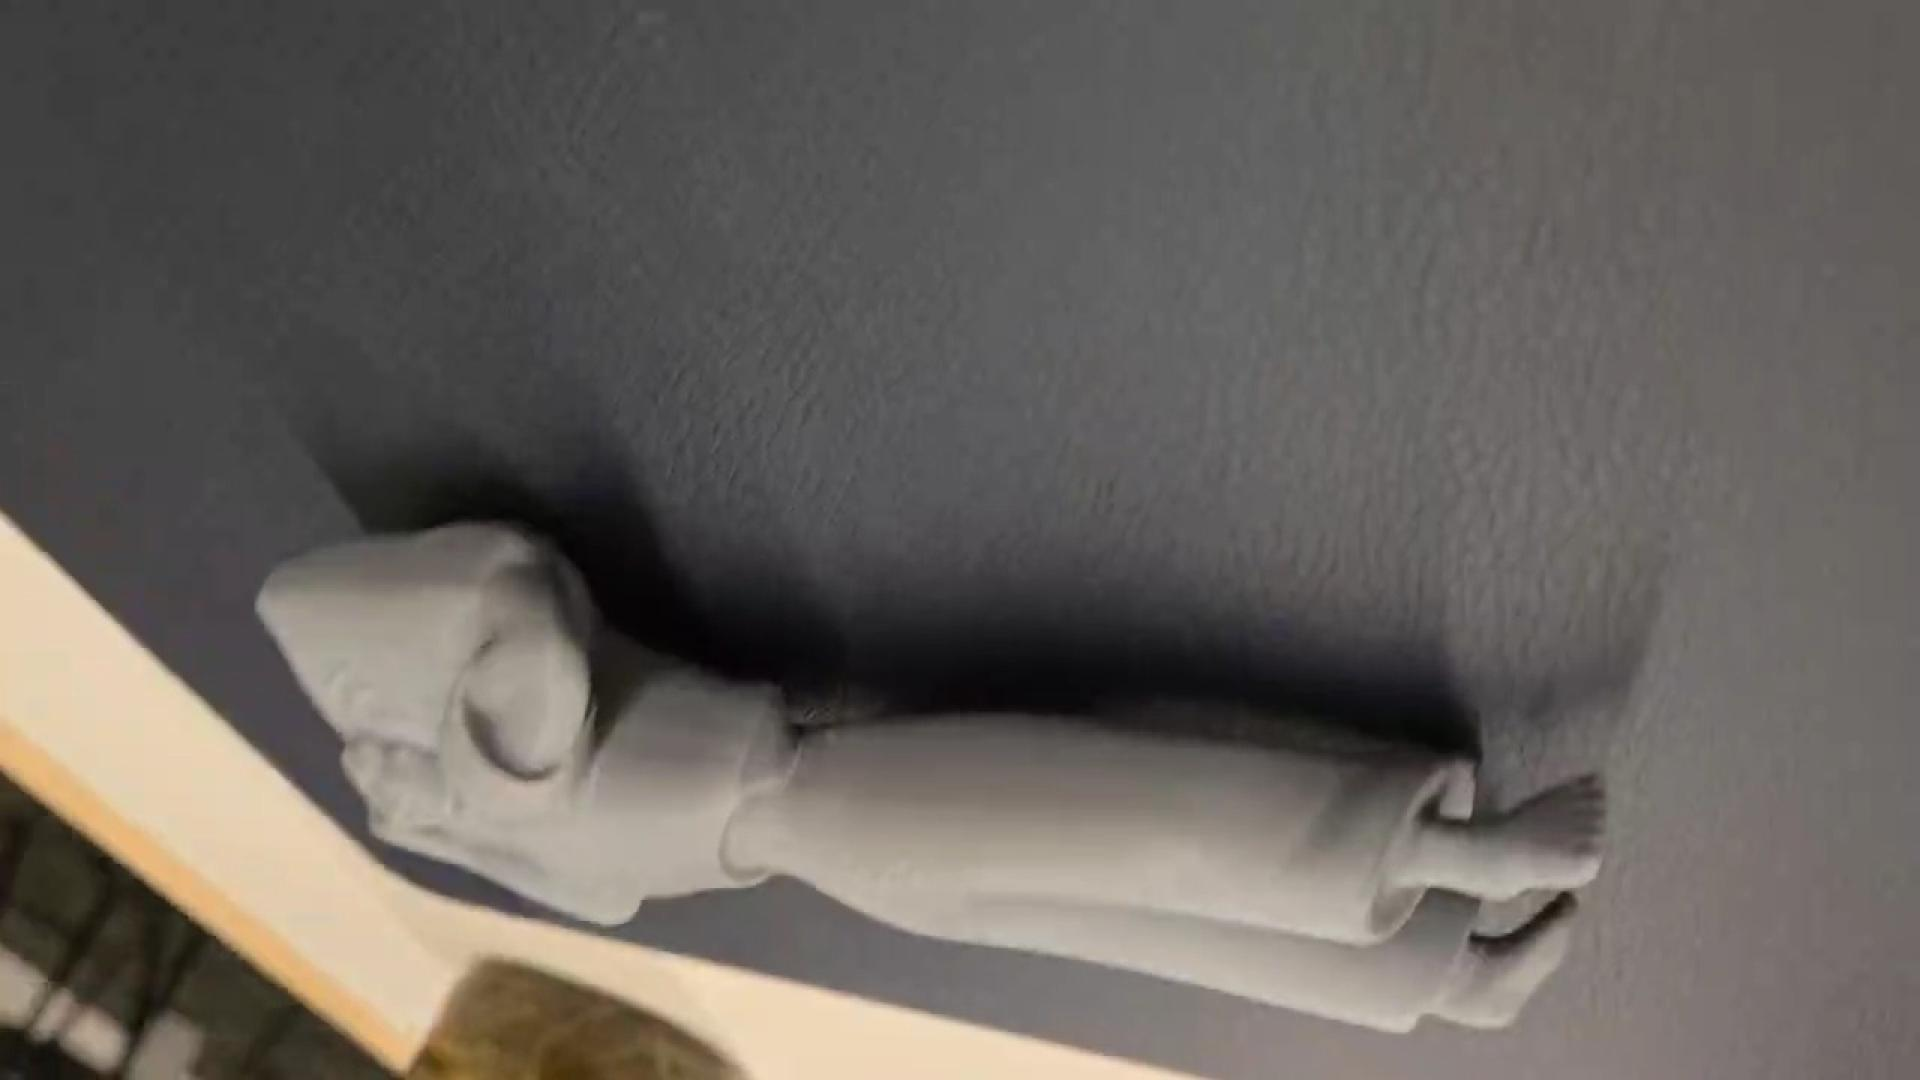Bad-style: (255, 506, 1629, 1062)
